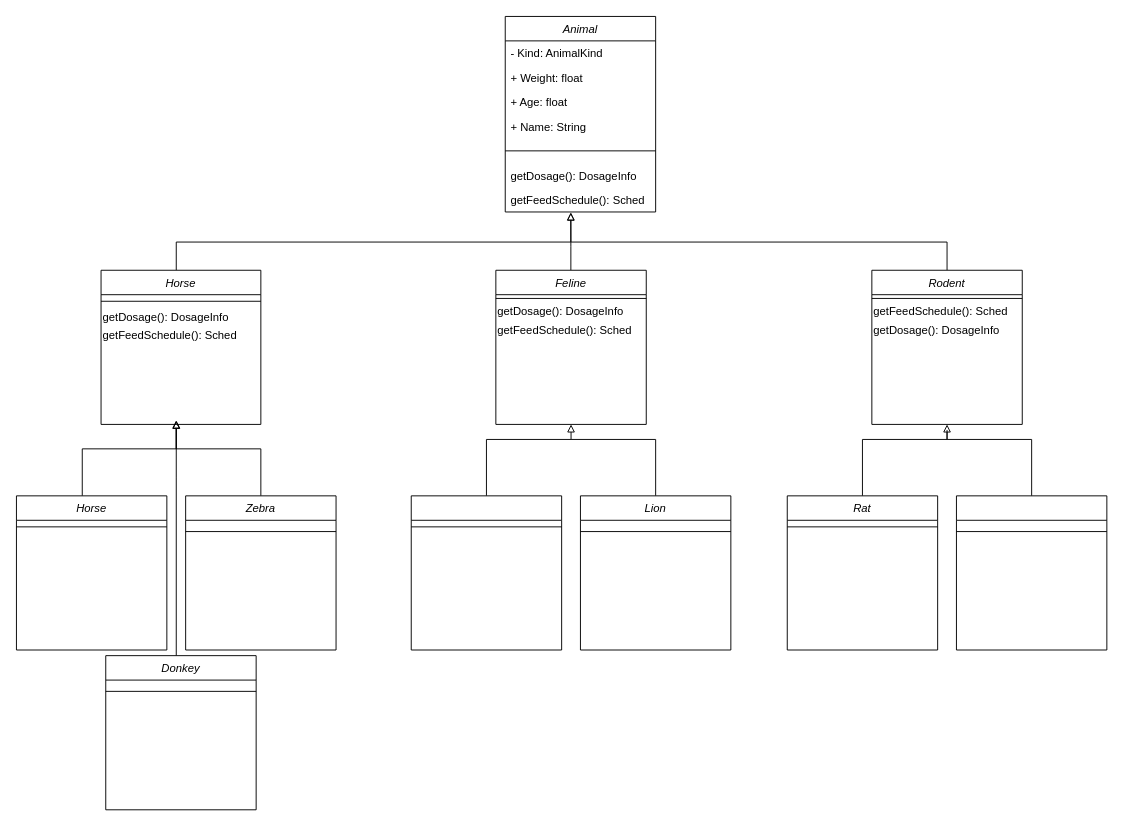
This 1123x826 diagram has some shape labels left out. Each missing label, with the centre of its shape:
Beaver: (x=1031, y=572)
Tiger: (x=486, y=572)
